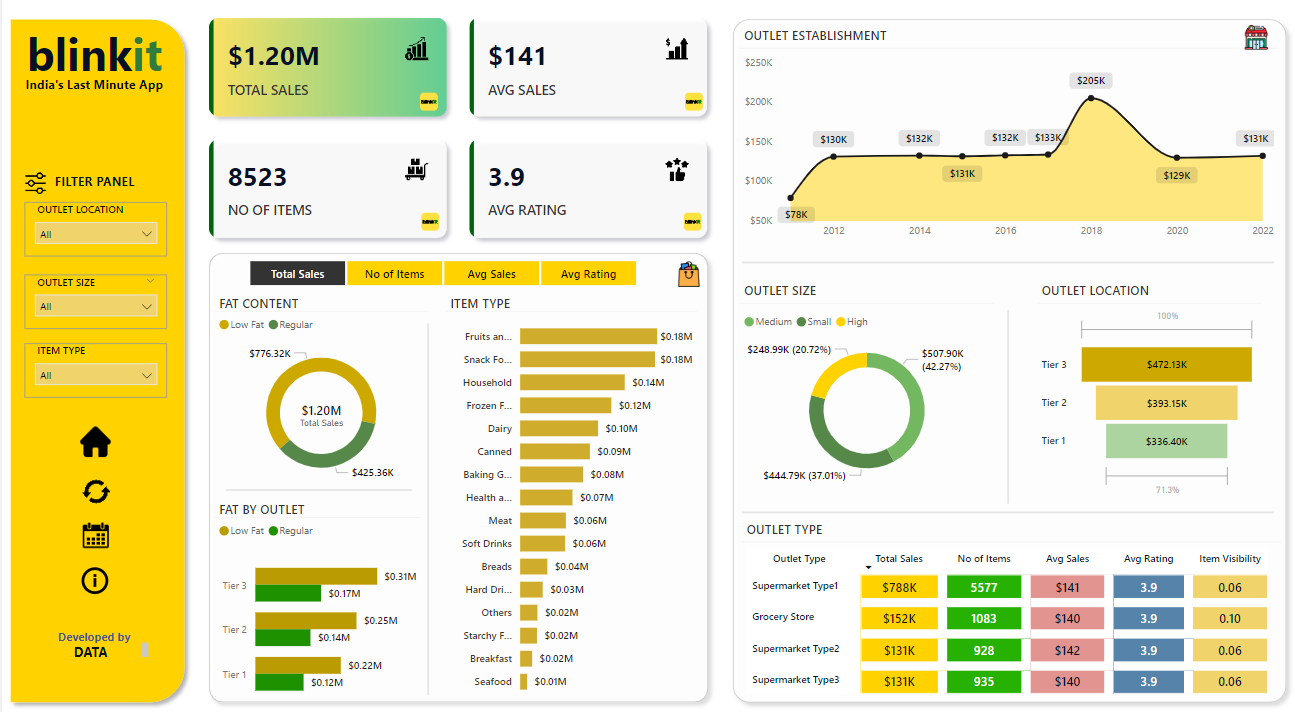

The dashboard page shown, as its layout file describes it:
{"tool":"powerbi","page":{"name":"Home","canvas":[1400,800],"ordinal":0},"visuals":[{"type":"shape","box":[0,25.3,205,750.7],"z":0},{"type":"textbox","box":[0,33,198.1,82.1],"z":1000},{"type":"cardVisual","fields":{"Data":["BlinkIT Grocery Data.Total Sum Sales","BlinkIT Grocery Data.Average Sales","BlinkIT Grocery Data.No of Items","BlinkIT Grocery Data.Avg Rating"]},"box":[204.8,15.8,569.7,270.8],"z":2000},{"type":"image","box":[71.4,466.3,58.7,42.6],"z":3000},{"type":"image","box":[74.4,521.1,52.1,39.7],"z":4000},{"type":"image","box":[81.8,568.8,38,39.1],"z":5000},{"type":"shape","box":[774.5,25.5,611.7,751.1],"z":6000},{"type":"areaChart","title":"OUTLET ESTABLISHMENT","fields":{"Y":["BlinkIT Grocery Data.Total Sum Sales"],"Category":["BlinkIT Grocery Data.Outlet Establishment Year2"]},"box":[790.6,42.5,578.3,234],"z":7000},{"type":"textbox","box":[0,89.6,198.1,34],"z":8000},{"type":"donutChart","title":"OUTLET SIZE","fields":{"Category":["BlinkIT Grocery Data.Outlet Size"],"Y":["BlinkIT Grocery Data.Total Sum Sales"]},"box":[790.6,316,273.6,224.5],"z":9000},{"type":"funnel","title":"OUTLET LOCATION","fields":{"Category":["BlinkIT Grocery Data.Outlet Location Type"],"Y":["BlinkIT Grocery Data.Total Sum Sales"]},"box":[1110.4,316,240.6,234],"z":10000},{"type":"pivotTable","title":"OUTLET TYPE","fields":{"Rows":["BlinkIT Grocery Data.Outlet Type"],"Values":["BlinkIT Grocery Data.Total Sum Sales","BlinkIT Grocery Data.No of Items","BlinkIT Grocery Data.Average Sales","BlinkIT Grocery Data.Avg Rating","Avg(BlinkIT Grocery Data.Item Visibility)"]},"box":[793.6,572.3,578.7,197.1],"z":11000},{"type":"shape","box":[793.4,284.9,570.8,19.8],"z":12000},{"type":"shape","box":[1064.2,346.2,29.2,208.5],"z":13000},{"type":"shape","box":[212.8,276.6,553.2,500],"z":14000},{"type":"donutChart","title":"FAT CONTENT","fields":{"Y":["BlinkIT Grocery Data.Total Sum Sales"],"Category":["BlinkIT Grocery Data.Item Fat Content"]},"box":[228.3,330.2,229.2,213.2],"z":15000},{"type":"shape","box":[793.4,553.8,570.8,19.8],"z":16000},{"type":"cardVisual","fields":{"Data":["BlinkIT Grocery Data.Total Sum Sales"]},"box":[291.9,428.1,102,54.5],"z":17000},{"type":"slicer","fields":{"Values":["Metric.Metric"]},"box":[240,287.5,464.2,39.6],"z":18000},{"type":"barChart","title":"ITEM TYPE","fields":{"Y":["BlinkIT Grocery Data.Total Sum Sales"],"Category":["BlinkIT Grocery Data.Item Type"]},"box":[475.3,330.2,269.8,438.1],"z":19000},{"type":"shape","box":[442.5,360.4,29.2,399.1],"z":20000},{"type":"clusteredBarChart","title":"FAT BY OUTLET","fields":{"Y":["BlinkIT Grocery Data.Total Sum Sales"],"Category":["BlinkIT Grocery Data.Outlet Location Type"],"Series":["BlinkIT Grocery Data.Item Fat Content"]},"box":[228.3,550.9,221.7,229.2],"z":21000},{"type":"shape","box":[239.6,529.2,200,19.8],"z":22000},{"type":"image","box":[725.5,108.5,33,29.2],"z":23000},{"type":"image","box":[723.6,237.7,33,29.2],"z":24000},{"type":"image","box":[442.5,237.7,33,29.2],"z":25000},{"type":"image","box":[440.6,108.5,33,29.2],"z":26000},{"type":"image","box":[715.6,289.2,41.3,36.9],"z":27000},{"type":"image","box":[1327.5,33.4,36,40.4],"z":28000},{"type":"slicer","fields":{"Values":["BlinkIT Grocery Data.Outlet Location Type"]},"box":[23.7,231.2,153,58],"z":29000},{"type":"slicer","fields":{"Values":["BlinkIT Grocery Data.Outlet Size"]},"box":[23.7,307.7,153,58],"z":30000},{"type":"slicer","fields":{"Values":["BlinkIT Grocery Data.Item Type"]},"box":[23.7,382.4,153,58],"z":31000},{"type":"textbox","box":[36.8,193.4,126.4,31.1],"z":32000},{"type":"image","box":[18.9,184,34.9,53.8],"z":33000},{"type":"textbox","box":[36.8,680.5,125.5,28.8],"z":34000},{"type":"textbox","box":[36.8,697.8,125.5,28.8],"z":35000},{"type":"actionButton","box":[80.6,616.6,38.5,39.7],"z":38000}]}

Visuals, with their boxes on the page's 1400x800 design canvas (x1, y1, x2, y2). These are canvas units, not pixel positions in the 1295x712 screenshot, which may show the page scaled, cropped or inside an application window:
shape: [0, 25, 205, 776]
textbox: [0, 33, 198, 115]
cardVisual - BlinkIT Grocery Data.Total Sum Sales x BlinkIT Grocery Data.Average Sales: [205, 16, 774, 287]
image: [71, 466, 130, 509]
image: [74, 521, 126, 561]
image: [82, 569, 120, 608]
shape: [774, 26, 1386, 777]
"OUTLET ESTABLISHMENT" areaChart: [791, 42, 1369, 276]
textbox: [0, 90, 198, 124]
"OUTLET SIZE" donutChart: [791, 316, 1064, 540]
"OUTLET LOCATION" funnel: [1110, 316, 1351, 550]
"OUTLET TYPE" pivotTable: [794, 572, 1372, 769]
shape: [793, 285, 1364, 305]
shape: [1064, 346, 1093, 555]
shape: [213, 277, 766, 777]
"FAT CONTENT" donutChart: [228, 330, 458, 543]
shape: [793, 554, 1364, 574]
cardVisual - BlinkIT Grocery Data.Total Sum Sales: [292, 428, 394, 483]
slicer - Metric.Metric: [240, 288, 704, 327]
"ITEM TYPE" barChart: [475, 330, 745, 768]
shape: [442, 360, 472, 760]
"FAT BY OUTLET" clusteredBarChart: [228, 551, 450, 780]
shape: [240, 529, 440, 549]
image: [726, 108, 758, 138]
image: [724, 238, 757, 267]
image: [442, 238, 476, 267]
image: [441, 108, 474, 138]
image: [716, 289, 757, 326]
image: [1328, 33, 1364, 74]
slicer - BlinkIT Grocery Data.Outlet Location Type: [24, 231, 177, 289]
slicer - BlinkIT Grocery Data.Outlet Size: [24, 308, 177, 366]
slicer - BlinkIT Grocery Data.Item Type: [24, 382, 177, 440]
textbox: [37, 193, 163, 224]
image: [19, 184, 54, 238]
textbox: [37, 680, 162, 709]
textbox: [37, 698, 162, 727]
actionButton: [81, 617, 119, 656]
